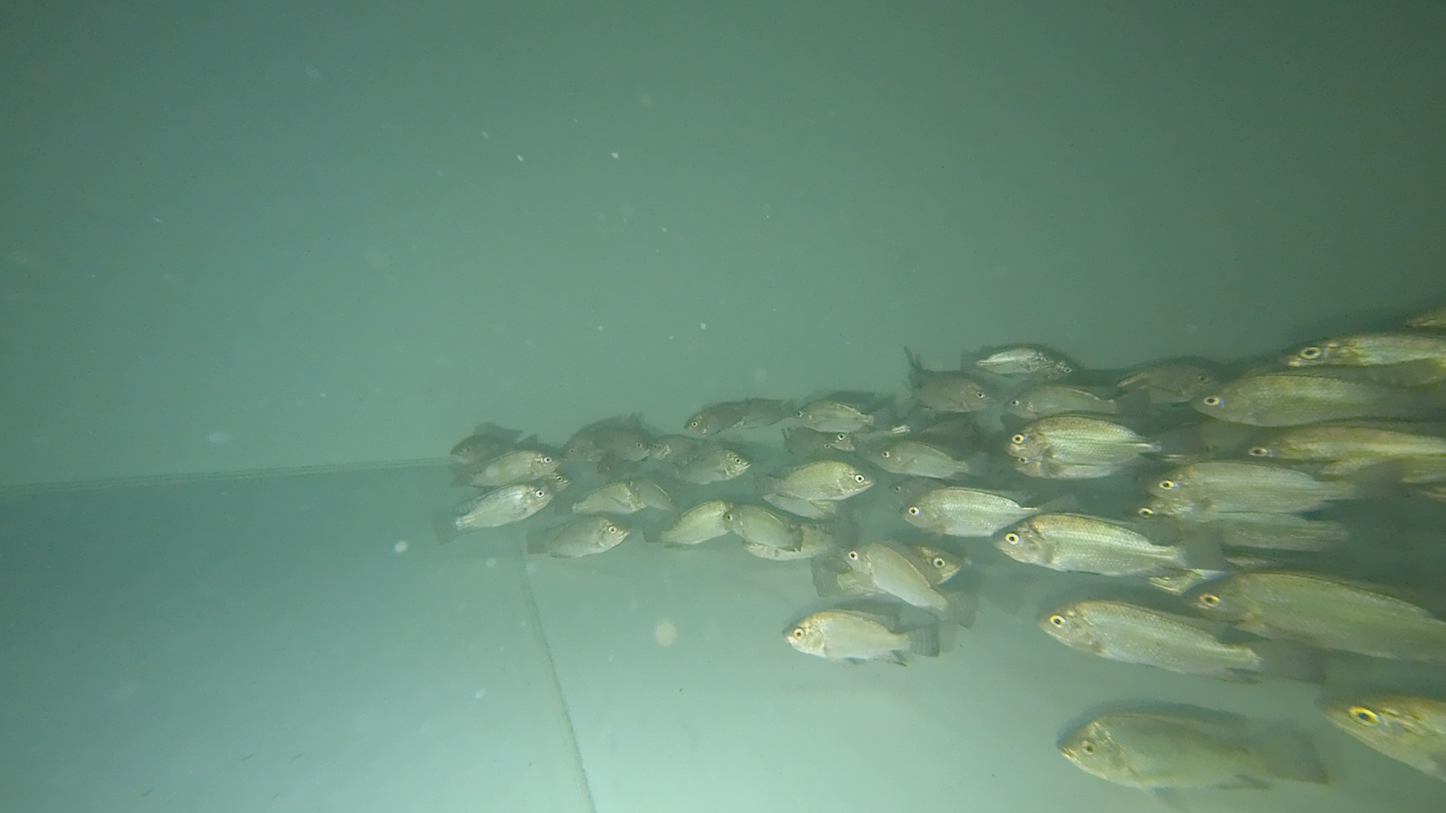fish: (993, 512, 1239, 575), (1005, 417, 1202, 466), (753, 458, 876, 501)
